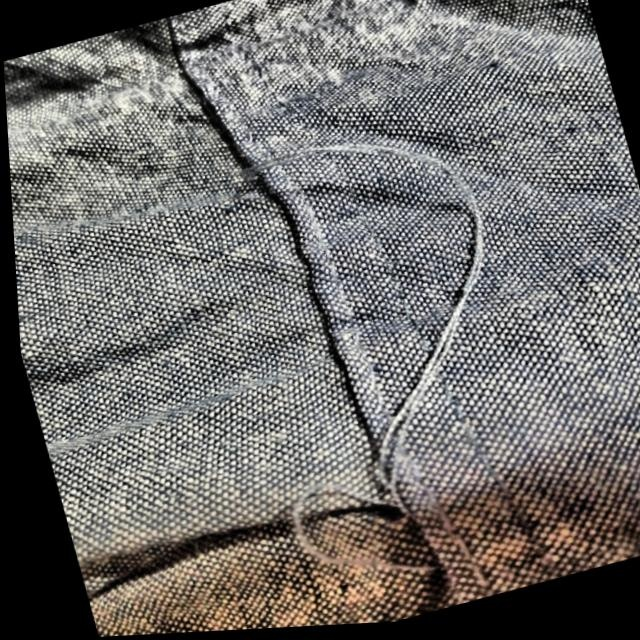Stitch: (63, 9, 639, 640)
